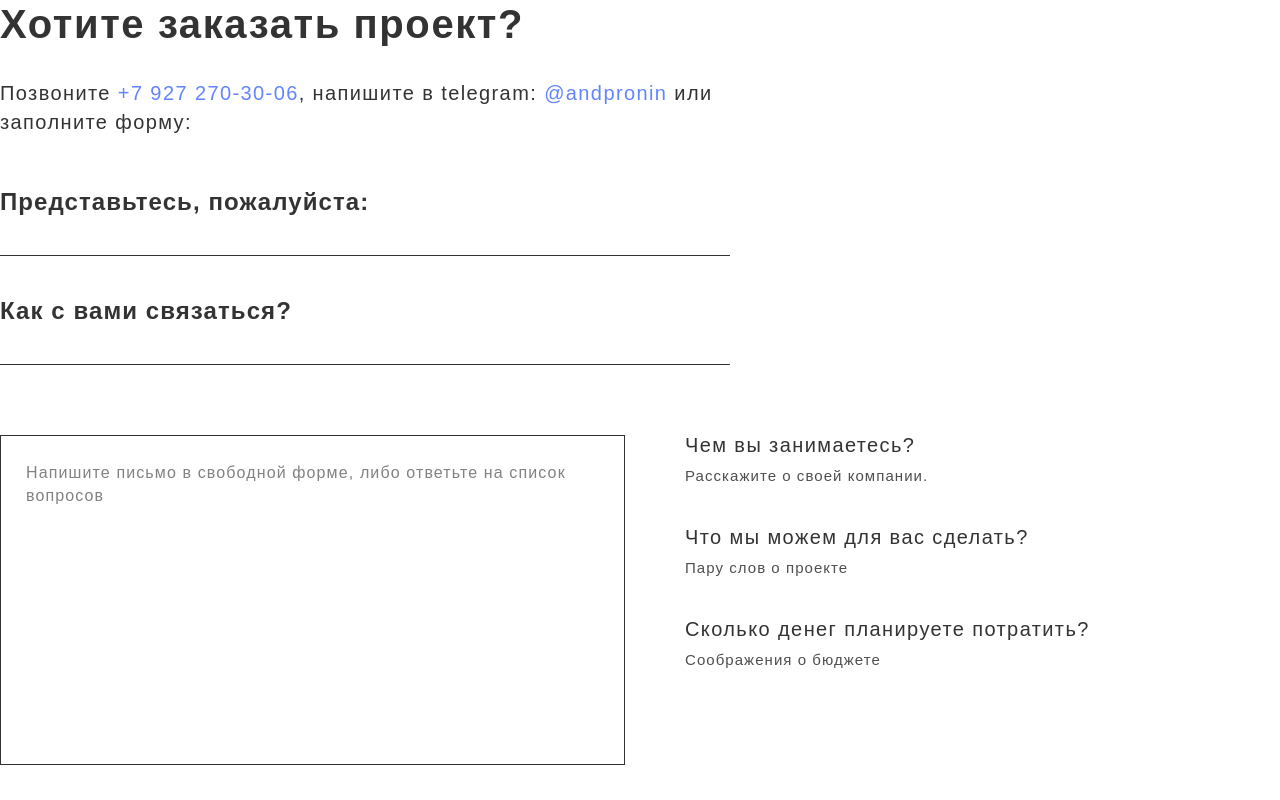
it: Form › not sending if "File" is empty and "Message" is invalid
Type "John Doe" into the field with test id "nameInput" at (365,222), box [0,187,730,256]
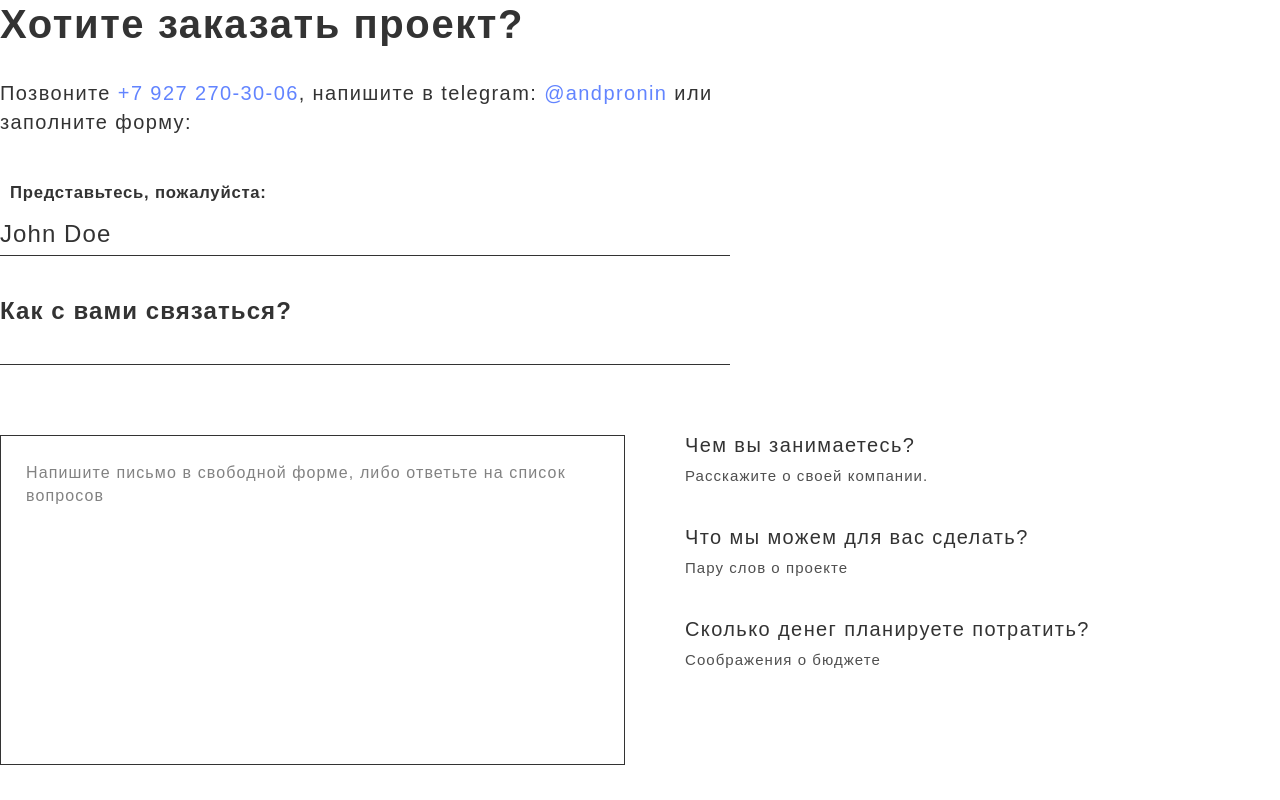
Type "88005553535" into the field with test id "communicateInput" at (365,331), box [0,296,730,365]
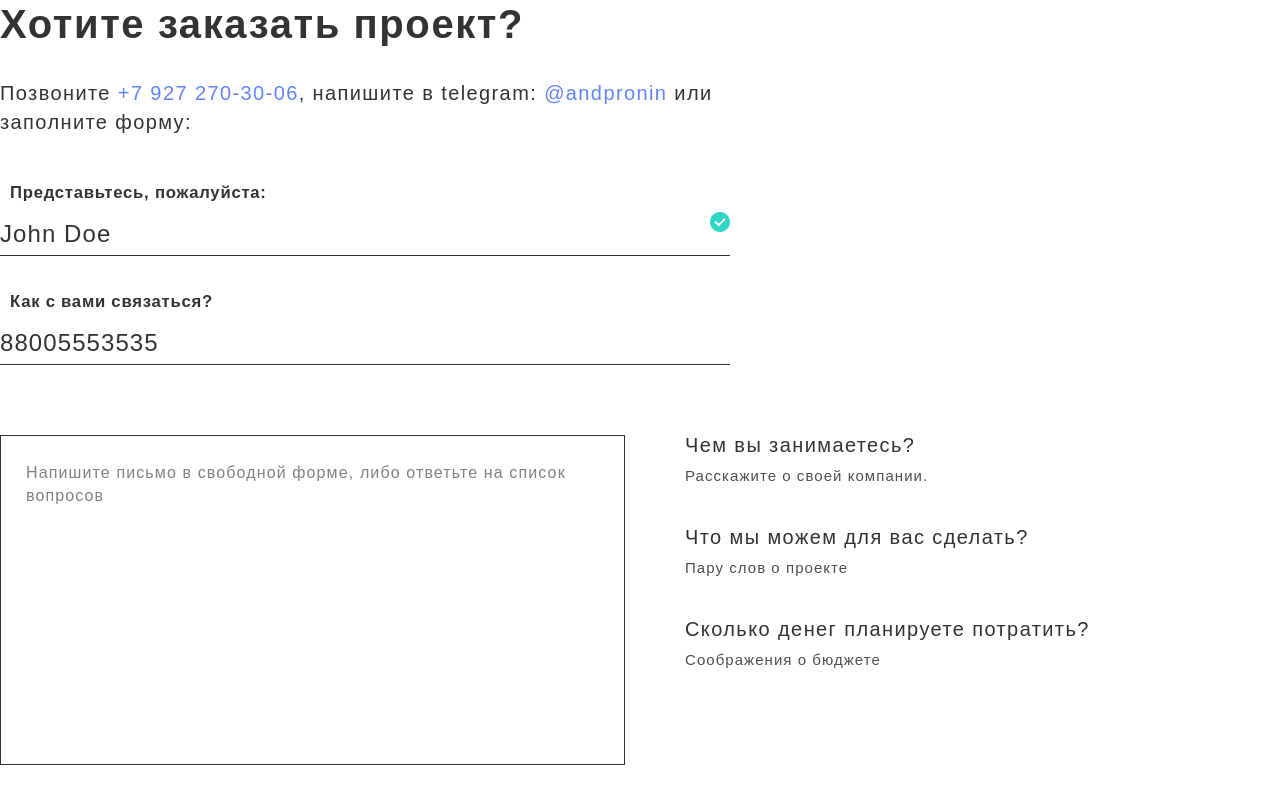
Type "lorem ipsum" into the text box with test id "messageTextarea" at (312,600), box [0,435,625,766]
(page scrolled)
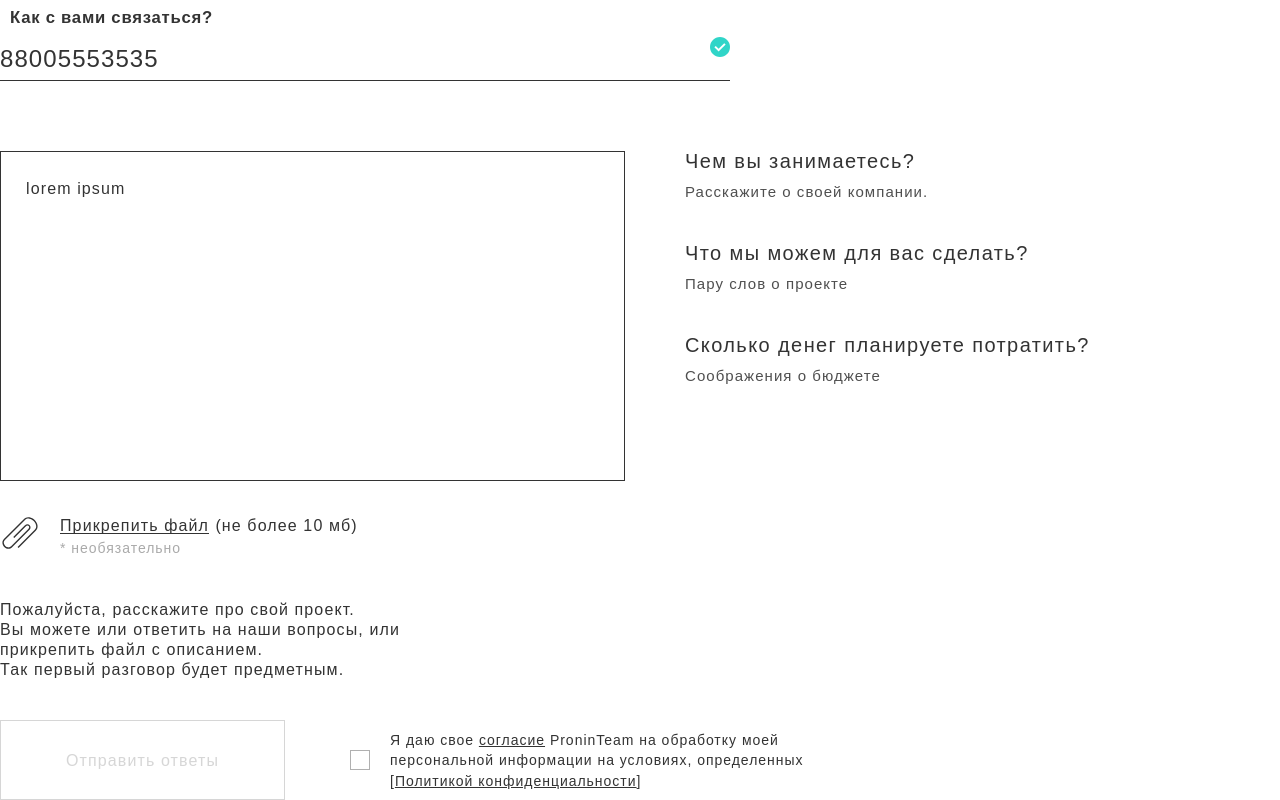
Click the checkbox with test id "agreeCheck" at (360,760), box [350,750,370,770]
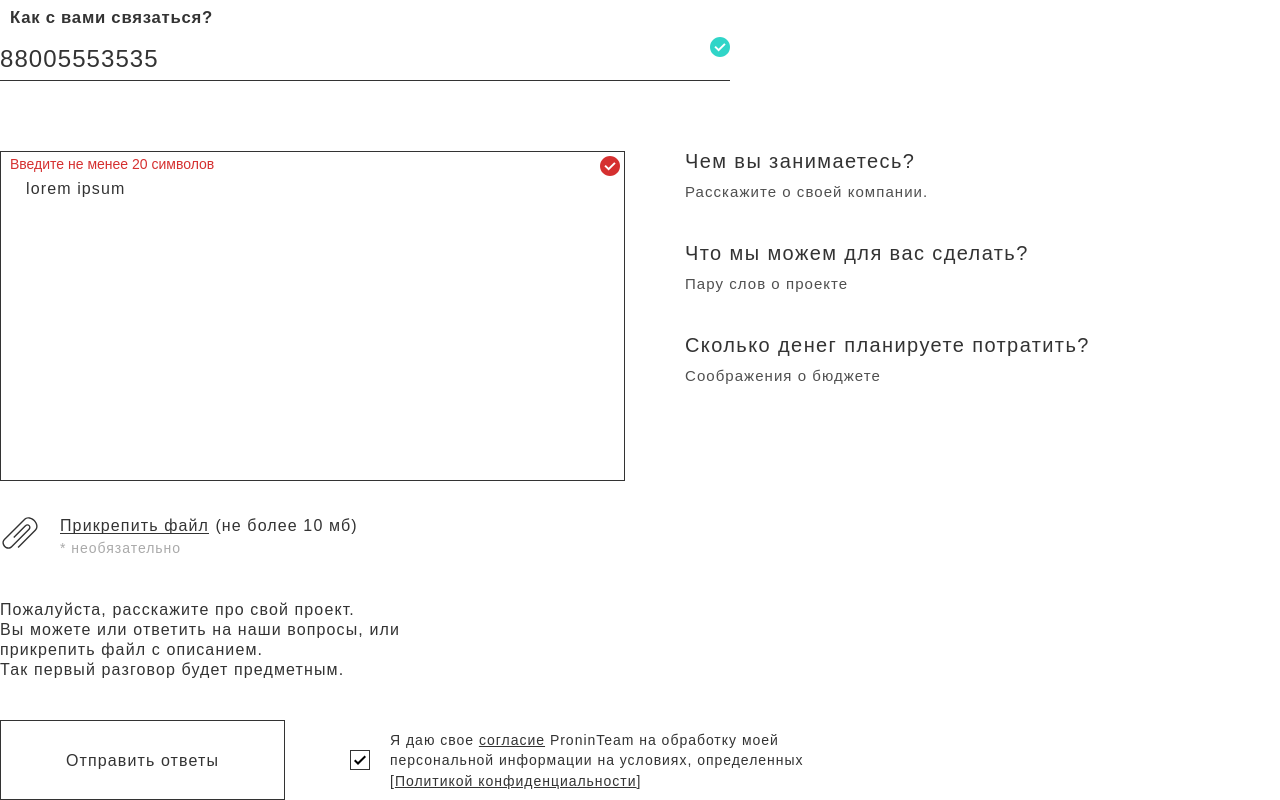
Click the button with test id "submitBtn" at (142,760), box [0,720,285,799]
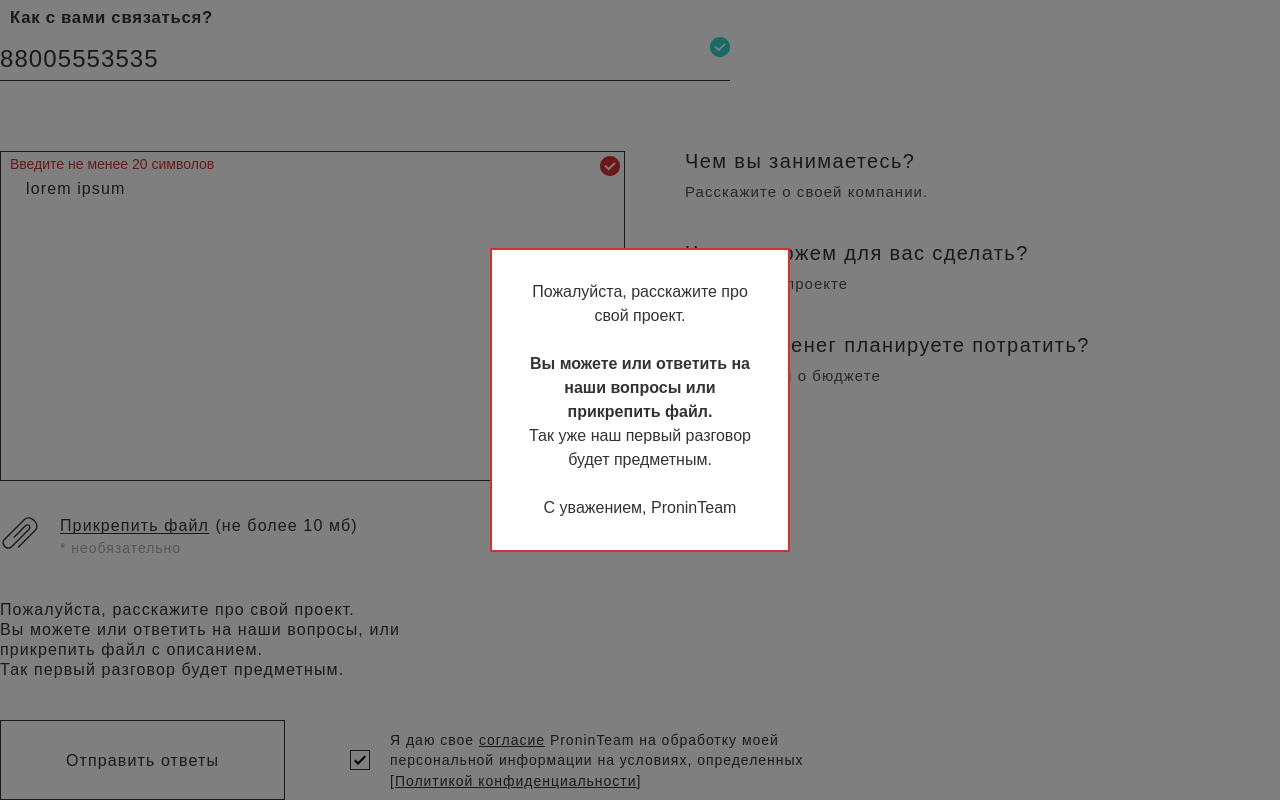
Expected: the element with test id "submitModal" shows "Пожалуйста, расскажите про свой проект.Вы можете или ответить на наши вопросы или прикрепить файл.Так уже наш первый разговор будет предметным.С уважением, P", [490,248,790,552]
